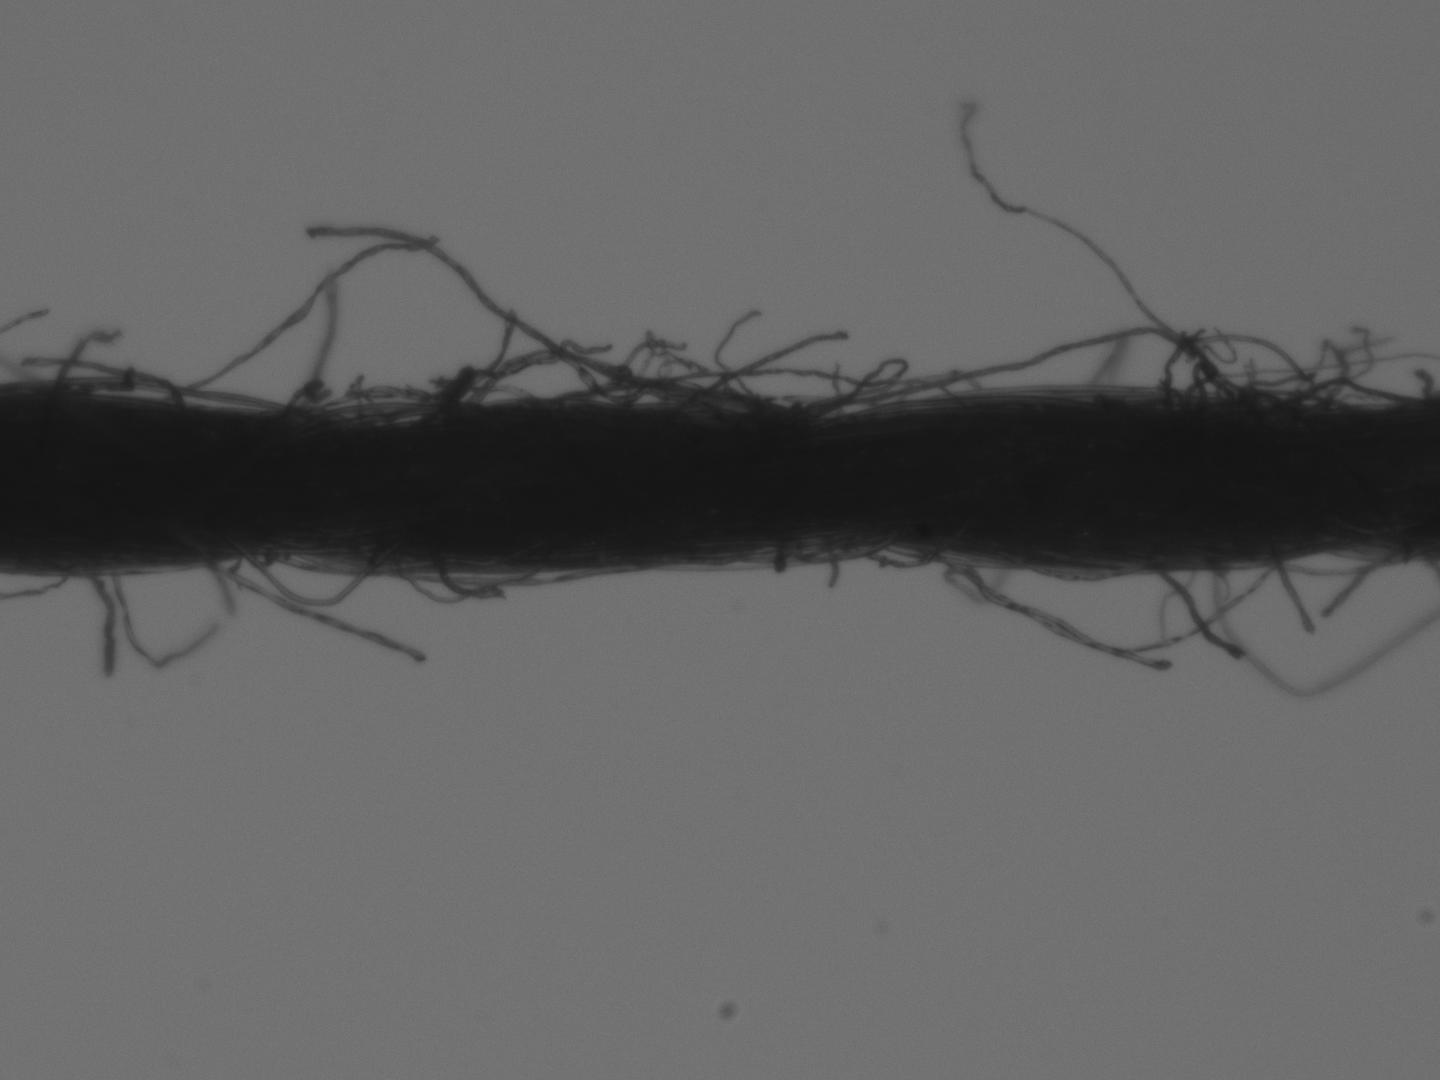loop_fiber: (683, 365, 958, 417), (314, 362, 530, 419), (557, 377, 777, 415), (236, 552, 382, 606), (1269, 377, 1422, 414), (1265, 547, 1412, 577), (776, 529, 892, 564), (1177, 356, 1242, 413), (858, 537, 959, 568)
protruding_fiber: (1151, 563, 1248, 660), (81, 571, 119, 681)
